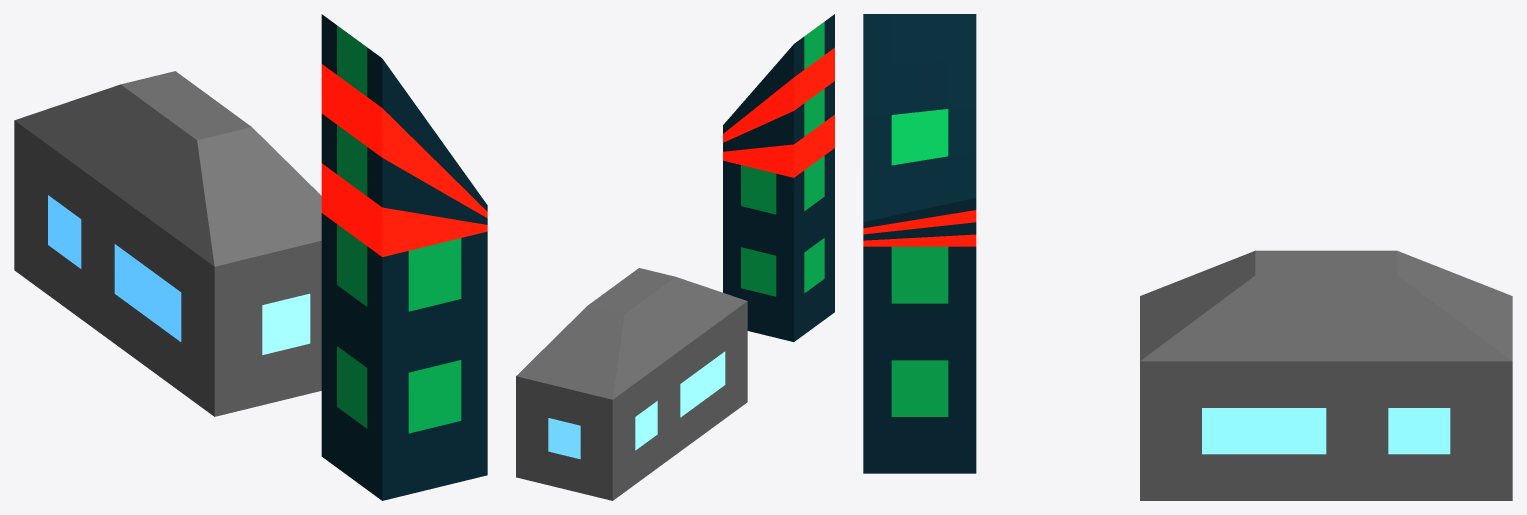
File: MoreHouses.fbx
The picture shows the model from 3 angles, left to right: view 1: azimuth 30°, elevation 25°; view 2: azimuth 150°, elevation 25°; view 3: azimuth 270°, elevation 25°; orthographic projection. The views are drawn at different scales.
Visible parts, largest first — view 1: Cube.001, Cube; view 2: Cube.001, Cube; view 3: Cube.001, Cube.
Part boxes in pixels (box(x1,y1,x2,y2)): Cube.001: box(14, 71, 321, 416); Cube: box(321, 14, 487, 500); Cube.001: box(516, 268, 747, 500); Cube: box(723, 14, 834, 341); Cube.001: box(1140, 250, 1512, 500); Cube: box(863, 14, 976, 473).
Size of the model in its own units: 1333 by 4109 by 5614.
